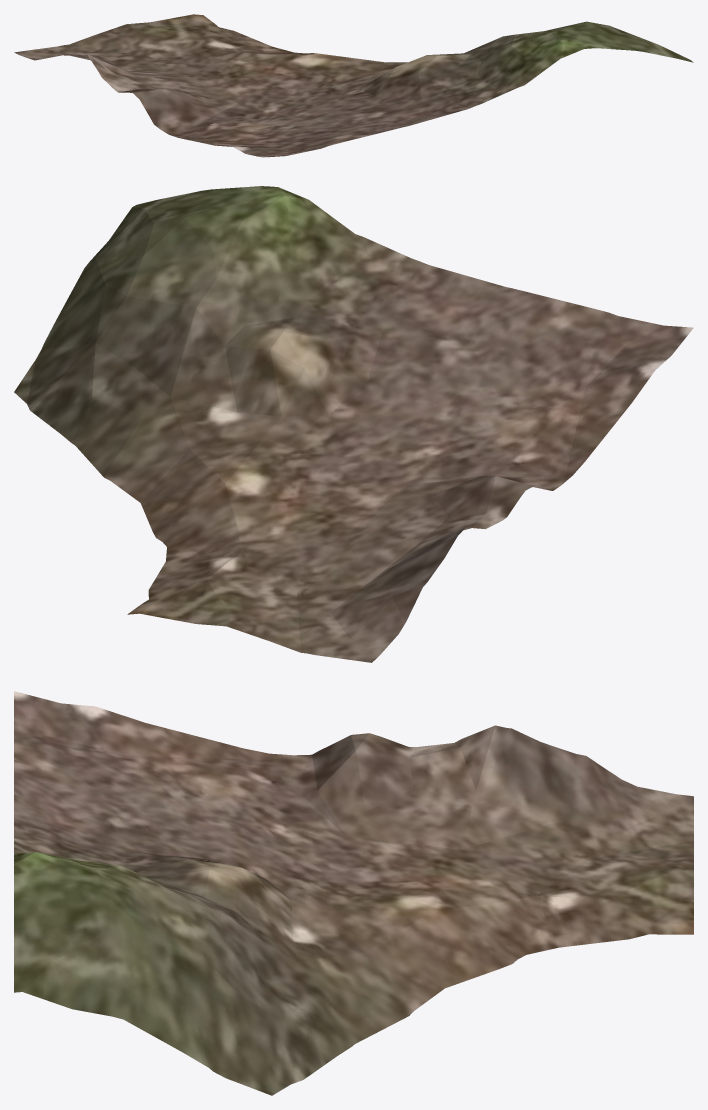
The picture shows the model from 3 angles, top to bottom: view 1: azimuth 30°, elevation 25°; view 2: azimuth 150°, elevation 25°; view 3: azimuth 270°, elevation 25°; orthographic projection. The views are drawn at different scales.
Size of the model in its own units: 2.95 by 0.7744 by 2.95.
Materials: 2 (2 with a texture image).
